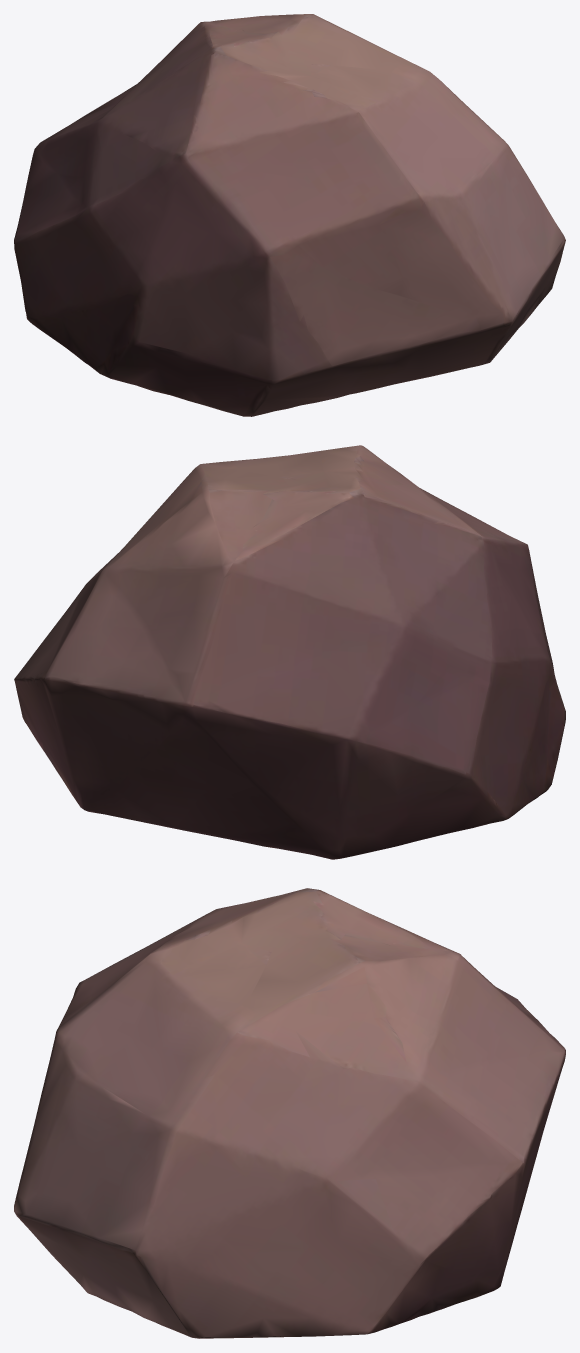
Rendered from rock.glb.
3 views of the same model, one above another, from view 1: azimuth 30°, elevation 25°; view 2: azimuth 150°, elevation 25°; view 3: azimuth 270°, elevation 25° (orthographic). The views are drawn at different scales.
Visible parts, largest first — view 1: rock; view 2: rock; view 3: rock.
Boxes of the visible parts, x1=… form: rock: x1=14, y1=14, x2=565, y2=416; rock: x1=14, y1=445, x2=565, y2=859; rock: x1=14, y1=888, x2=565, y2=1338.
Size of the model in its own units: 0.9995 by 0.6024 by 0.9542.
Materials: 1 (1 with a texture image).
